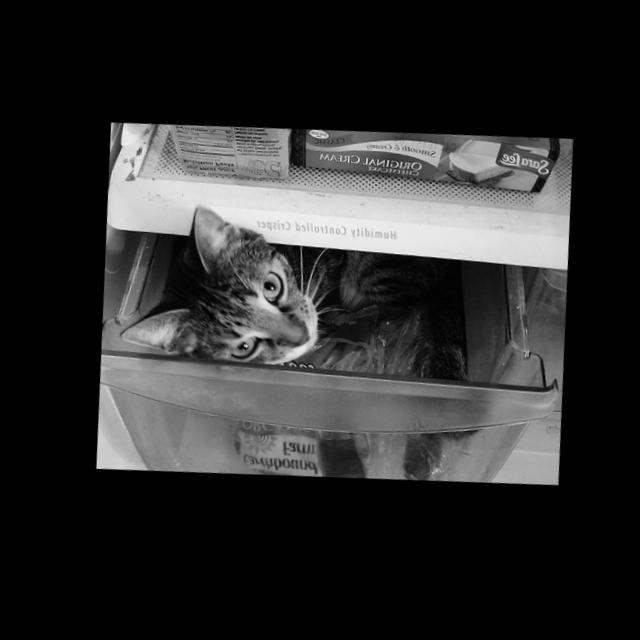animals: (112, 197, 315, 366)
